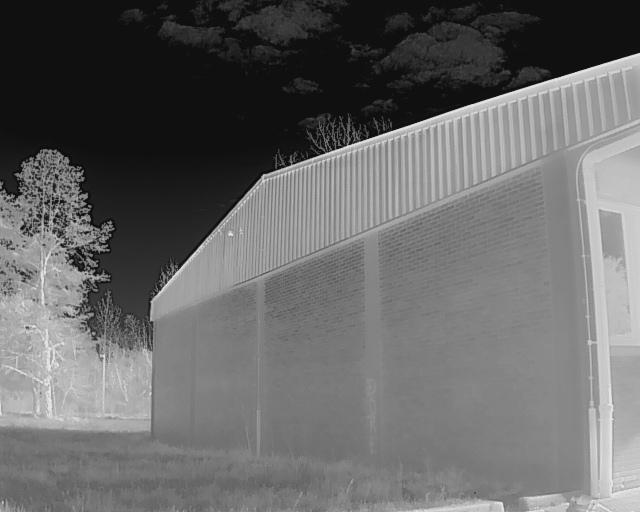drone: (210, 225, 248, 252)
